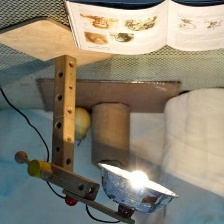light_bulb: (89, 158, 181, 218)
